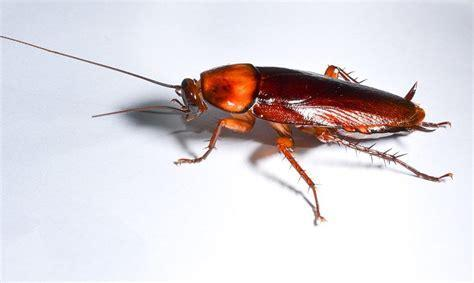cockroach: (5, 29, 466, 225)
